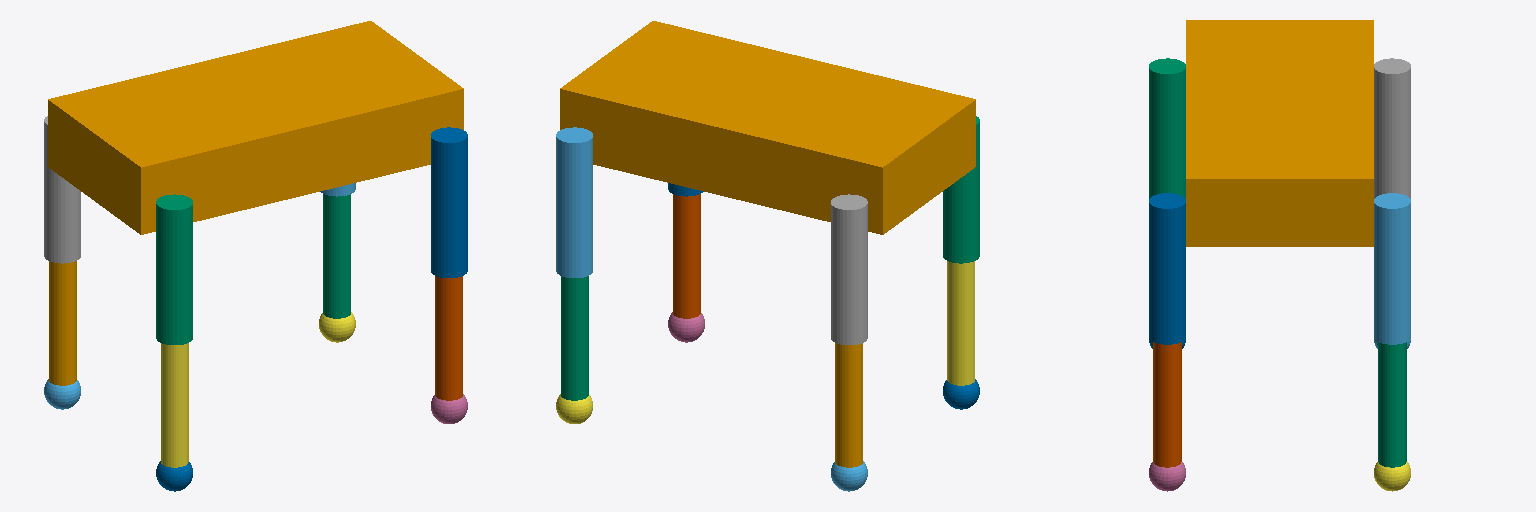
URDF robot description (tiny_dog):
<robot name="tiny_dog">
<link name="body"><visual><origin xyz="0 0 0"/><geometry><box size="0.4 0.2 0.08"/></geometry></visual><collision><origin xyz="0 0 0"/><geometry><box size="0.4 0.2 0.08"/></geometry></collision><inertial><origin xyz="0 0 0"/><mass value="6.0"/><inertia ixx="0.001" iyy="0.001" izz="0.001" ixy="0" ixz="0" iyz="0"/></inertial></link>
<link name="fl_thigh"><visual><origin xyz="0 0 -0.08"/><geometry><cylinder radius="0.02" length="0.16"/></geometry></visual><collision><origin xyz="0 0 -0.08"/><geometry><cylinder radius="0.02" length="0.16"/></geometry></collision><inertial><origin xyz="0 0 -0.08"/><mass value="0.4"/><inertia ixx="0.001" iyy="0.001" izz="0.001" ixy="0" ixz="0" iyz="0"/></inertial></link>
<joint name="fl_hip" type="revolute"><parent link="body"/><child link="fl_thigh"/><origin xyz="0.17 0.12 0"/><axis xyz="0 1 0"/><limit lower="-1.5" upper="1.5" effort="20" velocity="3"/></joint>
<link name="fl_shin"><visual><origin xyz="0 0 -0.08"/><geometry><cylinder radius="0.015" length="0.16"/></geometry></visual><collision><origin xyz="0 0 -0.08"/><geometry><cylinder radius="0.015" length="0.16"/></geometry></collision><inertial><origin xyz="0 0 -0.08"/><mass value="0.2"/><inertia ixx="0.001" iyy="0.001" izz="0.001" ixy="0" ixz="0" iyz="0"/></inertial></link>
<joint name="fl_knee" type="revolute"><parent link="fl_thigh"/><child link="fl_shin"/><origin xyz="0 0 -0.16"/><axis xyz="0 1 0"/><limit lower="-2.5" upper="0" effort="20" velocity="3"/></joint>
<link name="fl_foot"><visual><origin xyz="0 0 0"/><geometry><sphere radius="0.02"/></geometry></visual><collision><origin xyz="0 0 0"/><geometry><sphere radius="0.02"/></geometry></collision><inertial><origin xyz="0 0 0"/><mass value="0.05"/><inertia ixx="0.001" iyy="0.001" izz="0.001" ixy="0" ixz="0" iyz="0"/></inertial></link>
<joint name="fl_ankle" type="fixed"><parent link="fl_shin"/><child link="fl_foot"/><origin xyz="0 0 -0.16"/><axis xyz="0 1 0"/></joint>
<link name="fr_thigh"><visual><origin xyz="0 0 -0.08"/><geometry><cylinder radius="0.02" length="0.16"/></geometry></visual><collision><origin xyz="0 0 -0.08"/><geometry><cylinder radius="0.02" length="0.16"/></geometry></collision><inertial><origin xyz="0 0 -0.08"/><mass value="0.4"/><inertia ixx="0.001" iyy="0.001" izz="0.001" ixy="0" ixz="0" iyz="0"/></inertial></link>
<joint name="fr_hip" type="revolute"><parent link="body"/><child link="fr_thigh"/><origin xyz="0.17 -0.12 0"/><axis xyz="0 1 0"/><limit lower="-1.5" upper="1.5" effort="20" velocity="3"/></joint>
<link name="fr_shin"><visual><origin xyz="0 0 -0.08"/><geometry><cylinder radius="0.015" length="0.16"/></geometry></visual><collision><origin xyz="0 0 -0.08"/><geometry><cylinder radius="0.015" length="0.16"/></geometry></collision><inertial><origin xyz="0 0 -0.08"/><mass value="0.2"/><inertia ixx="0.001" iyy="0.001" izz="0.001" ixy="0" ixz="0" iyz="0"/></inertial></link>
<joint name="fr_knee" type="revolute"><parent link="fr_thigh"/><child link="fr_shin"/><origin xyz="0 0 -0.16"/><axis xyz="0 1 0"/><limit lower="-2.5" upper="0" effort="20" velocity="3"/></joint>
<link name="fr_foot"><visual><origin xyz="0 0 0"/><geometry><sphere radius="0.02"/></geometry></visual><collision><origin xyz="0 0 0"/><geometry><sphere radius="0.02"/></geometry></collision><inertial><origin xyz="0 0 0"/><mass value="0.05"/><inertia ixx="0.001" iyy="0.001" izz="0.001" ixy="0" ixz="0" iyz="0"/></inertial></link>
<joint name="fr_ankle" type="fixed"><parent link="fr_shin"/><child link="fr_foot"/><origin xyz="0 0 -0.16"/><axis xyz="0 1 0"/></joint>
<link name="hl_thigh"><visual><origin xyz="0 0 -0.08"/><geometry><cylinder radius="0.02" length="0.16"/></geometry></visual><collision><origin xyz="0 0 -0.08"/><geometry><cylinder radius="0.02" length="0.16"/></geometry></collision><inertial><origin xyz="0 0 -0.08"/><mass value="0.4"/><inertia ixx="0.001" iyy="0.001" izz="0.001" ixy="0" ixz="0" iyz="0"/></inertial></link>
<joint name="hl_hip" type="revolute"><parent link="body"/><child link="hl_thigh"/><origin xyz="-0.17 0.12 0"/><axis xyz="0 1 0"/><limit lower="-1.5" upper="1.5" effort="20" velocity="3"/></joint>
<link name="hl_shin"><visual><origin xyz="0 0 -0.08"/><geometry><cylinder radius="0.015" length="0.16"/></geometry></visual><collision><origin xyz="0 0 -0.08"/><geometry><cylinder radius="0.015" length="0.16"/></geometry></collision><inertial><origin xyz="0 0 -0.08"/><mass value="0.2"/><inertia ixx="0.001" iyy="0.001" izz="0.001" ixy="0" ixz="0" iyz="0"/></inertial></link>
<joint name="hl_knee" type="revolute"><parent link="hl_thigh"/><child link="hl_shin"/><origin xyz="0 0 -0.16"/><axis xyz="0 1 0"/><limit lower="-2.5" upper="0" effort="20" velocity="3"/></joint>
<link name="hl_foot"><visual><origin xyz="0 0 0"/><geometry><sphere radius="0.02"/></geometry></visual><collision><origin xyz="0 0 0"/><geometry><sphere radius="0.02"/></geometry></collision><inertial><origin xyz="0 0 0"/><mass value="0.05"/><inertia ixx="0.001" iyy="0.001" izz="0.001" ixy="0" ixz="0" iyz="0"/></inertial></link>
<joint name="hl_ankle" type="fixed"><parent link="hl_shin"/><child link="hl_foot"/><origin xyz="0 0 -0.16"/><axis xyz="0 1 0"/></joint>
<link name="hr_thigh"><visual><origin xyz="0 0 -0.08"/><geometry><cylinder radius="0.02" length="0.16"/></geometry></visual><collision><origin xyz="0 0 -0.08"/><geometry><cylinder radius="0.02" length="0.16"/></geometry></collision><inertial><origin xyz="0 0 -0.08"/><mass value="0.4"/><inertia ixx="0.001" iyy="0.001" izz="0.001" ixy="0" ixz="0" iyz="0"/></inertial></link>
<joint name="hr_hip" type="revolute"><parent link="body"/><child link="hr_thigh"/><origin xyz="-0.17 -0.12 0"/><axis xyz="0 1 0"/><limit lower="-1.5" upper="1.5" effort="20" velocity="3"/></joint>
<link name="hr_shin"><visual><origin xyz="0 0 -0.08"/><geometry><cylinder radius="0.015" length="0.16"/></geometry></visual><collision><origin xyz="0 0 -0.08"/><geometry><cylinder radius="0.015" length="0.16"/></geometry></collision><inertial><origin xyz="0 0 -0.08"/><mass value="0.2"/><inertia ixx="0.001" iyy="0.001" izz="0.001" ixy="0" ixz="0" iyz="0"/></inertial></link>
<joint name="hr_knee" type="revolute"><parent link="hr_thigh"/><child link="hr_shin"/><origin xyz="0 0 -0.16"/><axis xyz="0 1 0"/><limit lower="-2.5" upper="0" effort="20" velocity="3"/></joint>
<link name="hr_foot"><visual><origin xyz="0 0 0"/><geometry><sphere radius="0.02"/></geometry></visual><collision><origin xyz="0 0 0"/><geometry><sphere radius="0.02"/></geometry></collision><inertial><origin xyz="0 0 0"/><mass value="0.05"/><inertia ixx="0.001" iyy="0.001" izz="0.001" ixy="0" ixz="0" iyz="0"/></inertial></link>
<joint name="hr_ankle" type="fixed"><parent link="hr_shin"/><child link="hr_foot"/><origin xyz="0 0 -0.16"/><axis xyz="0 1 0"/></joint>
</robot>

--- Facts derived from the render (not from the file) ---
The picture shows the robot from 3 angles, left to right: view 1: azimuth 30°, elevation 25°; view 2: azimuth 150°, elevation 25°; view 3: azimuth 270°, elevation 25°; orthographic projection.
Model tiny_dog with 13 links and 12 joints (8 revolute, 4 fixed), rooted at body, posed all joints at 0.
Links seen in each view (by area): view 1: body, fr_thigh, hr_thigh, fr_shin, hr_shin, fl_shin, hl_shin, hl_thigh, hl_foot, hr_foot, fl_foot, fr_foot; view 2: body, fl_thigh, hl_thigh, fl_shin, hl_shin, fr_shin, hr_shin, hr_thigh, hl_foot, hr_foot, fr_foot, fl_foot; view 3: body, fl_thigh, fr_thigh, hl_thigh, hr_thigh, fl_shin, fr_shin, fl_foot, fr_foot.
Link boxes in pixels (left/top/right/bottom): body: left=48, top=21, right=463, bottom=234; fr_thigh: left=431, top=127, right=467, bottom=277; hr_thigh: left=156, top=194, right=192, bottom=344; fr_shin: left=435, top=276, right=462, bottom=400; hr_shin: left=161, top=343, right=188, bottom=467; fl_shin: left=323, top=194, right=350, bottom=318; hl_shin: left=49, top=261, right=76, bottom=385; hl_thigh: left=44, top=116, right=80, bottom=263; hl_foot: left=44, top=379, right=80, bottom=409; hr_foot: left=156, top=461, right=192, bottom=491; fl_foot: left=319, top=312, right=355, bottom=342; fr_foot: left=431, top=394, right=467, bottom=423; body: left=560, top=21, right=975, bottom=234; fl_thigh: left=556, top=127, right=592, bottom=277; hl_thigh: left=831, top=194, right=867, bottom=344; fl_shin: left=561, top=276, right=588, bottom=400; hl_shin: left=835, top=343, right=862, bottom=467; fr_shin: left=673, top=194, right=700, bottom=318; hr_shin: left=947, top=261, right=974, bottom=385; hr_thigh: left=943, top=116, right=979, bottom=263; hl_foot: left=831, top=461, right=867, bottom=491; hr_foot: left=943, top=379, right=979, bottom=409; fr_foot: left=668, top=312, right=704, bottom=342; fl_foot: left=556, top=394, right=592, bottom=423; body: left=1186, top=20, right=1373, bottom=246; fl_thigh: left=1374, top=193, right=1410, bottom=344; fr_thigh: left=1149, top=193, right=1185, bottom=344; hl_thigh: left=1374, top=58, right=1410, bottom=198; hr_thigh: left=1149, top=58, right=1185, bottom=198; fl_shin: left=1378, top=342, right=1406, bottom=467; fr_shin: left=1153, top=342, right=1181, bottom=467; fl_foot: left=1374, top=462, right=1410, bottom=491; fr_foot: left=1149, top=462, right=1185, bottom=491.
Bounding box of the posed robot: 0.4 × 0.28 × 0.38 m (x, y, z).
Geometry: primitives only (box / cylinder / sphere), no mesh files.
